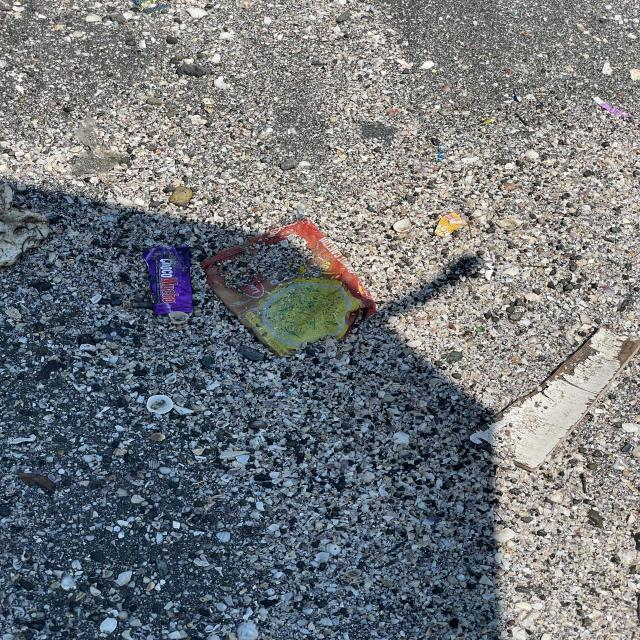litter: (198, 220, 377, 362), (143, 247, 197, 316)
